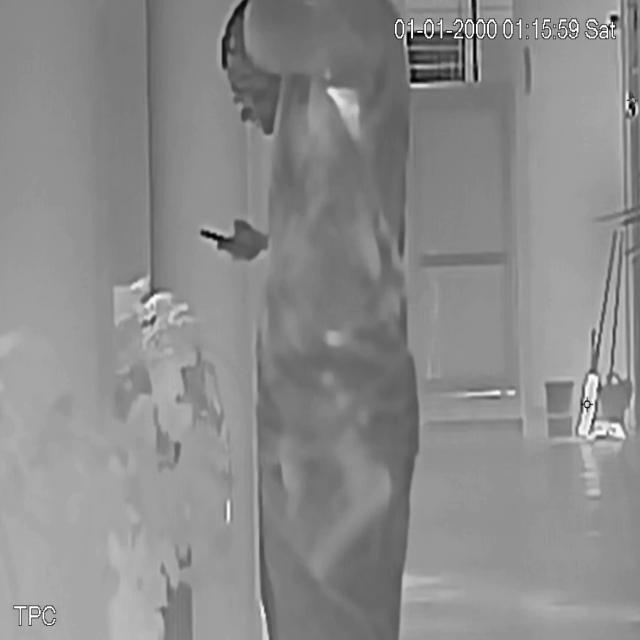Weapon: (296, 418, 397, 597)
